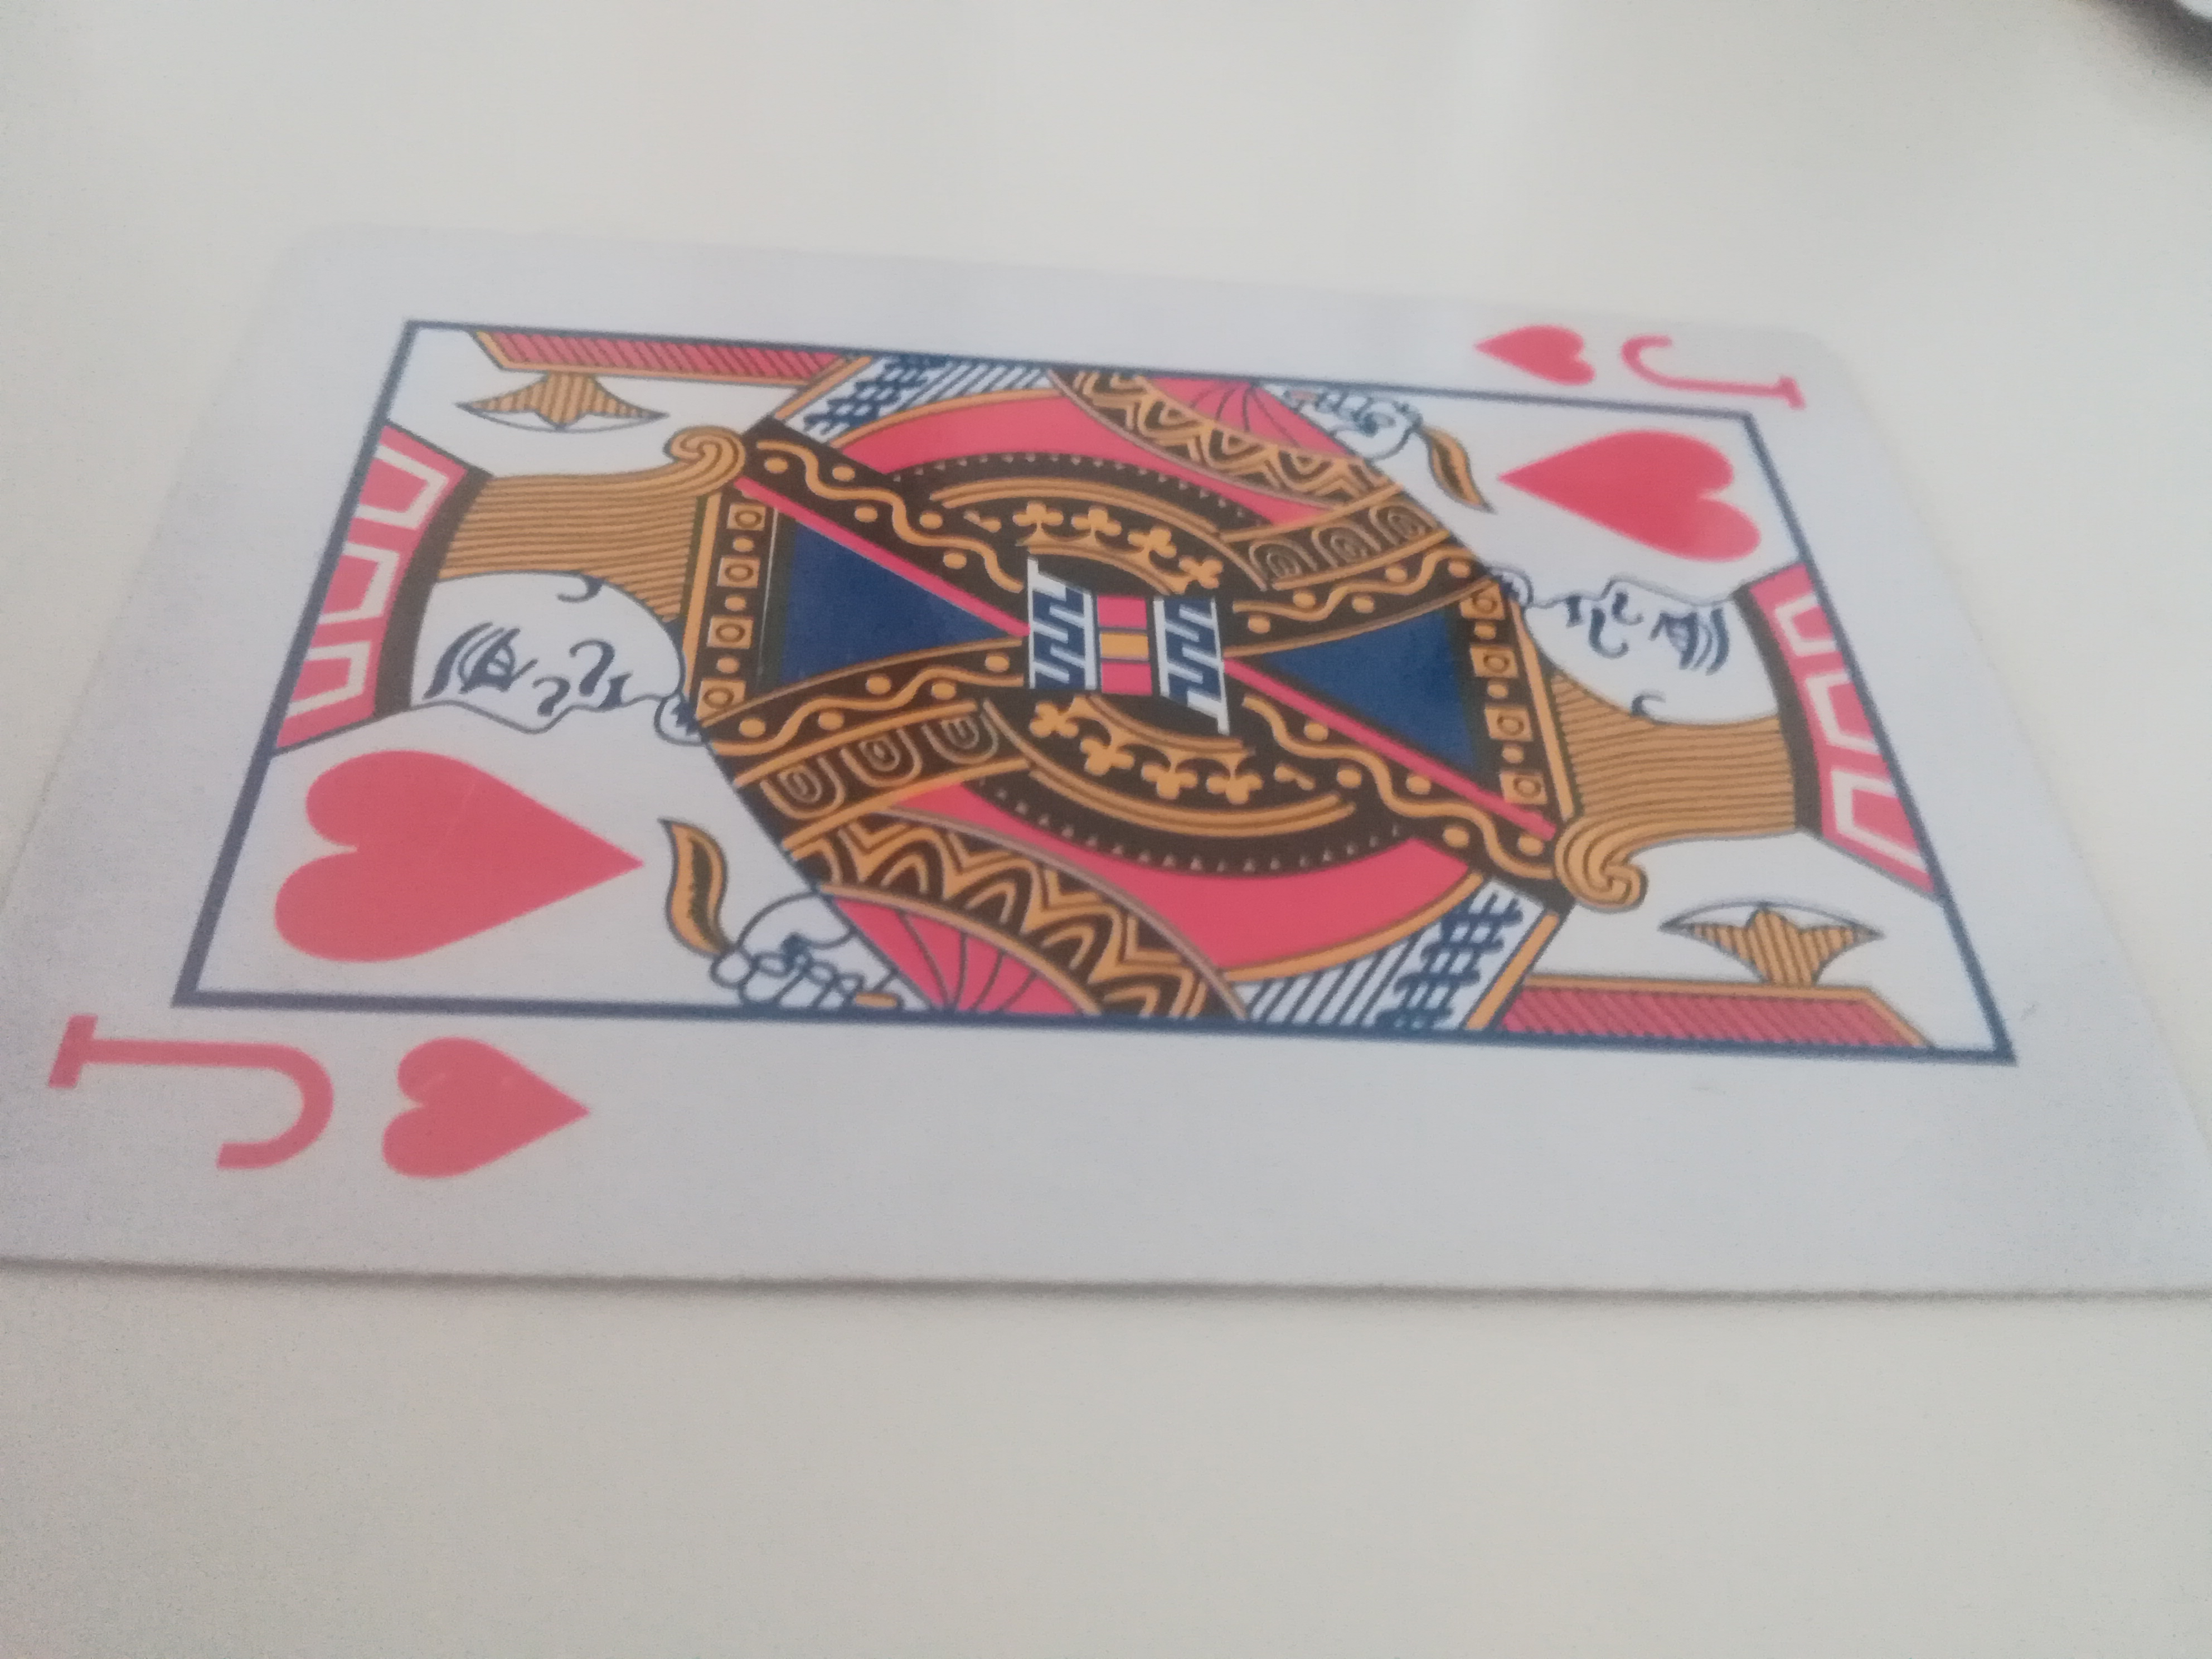JH: (17, 235, 2212, 1290)
